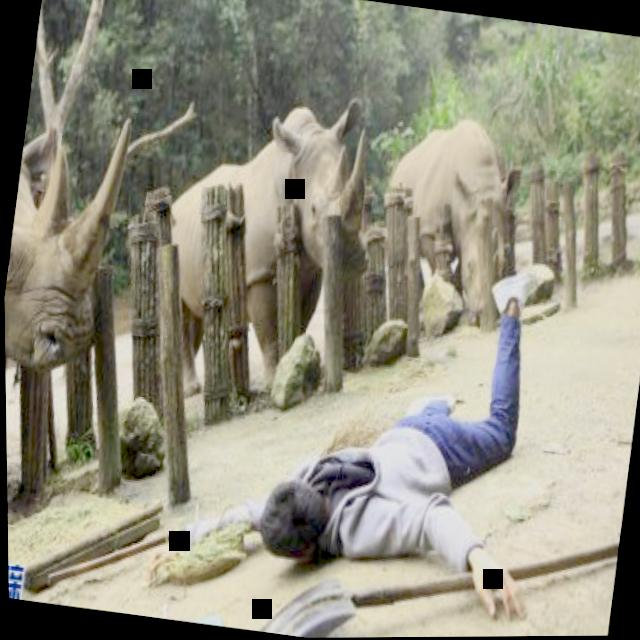Fall-Detected: (123, 191, 592, 639)
